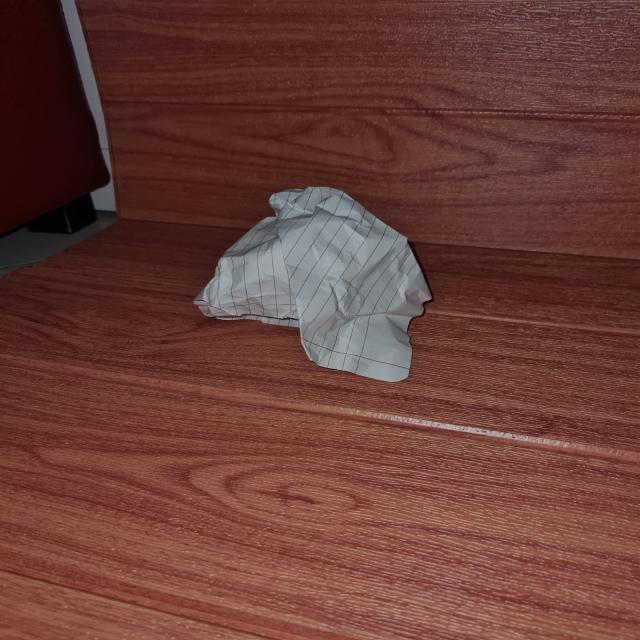Paper: (197, 188, 430, 381)
